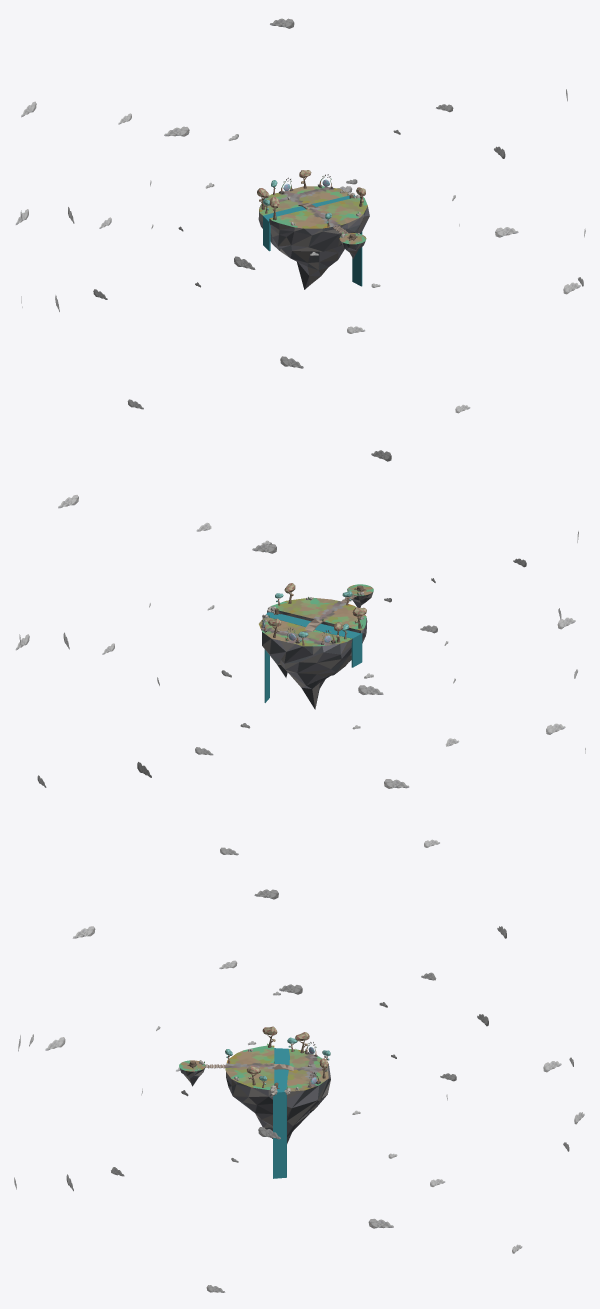
Rendered from IslaBosque.fbx.
3 renders of one model, top to bottom at view 1: azimuth 30°, elevation 25°; view 2: azimuth 150°, elevation 25°; view 3: azimuth 270°, elevation 25°, orthographic.
Visible parts, largest first — view 1: islaGrande_Rocas, islaGrande_Suelo, IslaBosque_Rio; view 2: islaGrande_Rocas, islaGrande_Suelo, IslaBosque_Rio; view 3: islaGrande_Suelo, islaGrande_Rocas, IslaBosque_Rio.
Part boxes in pixels (x1,y1,x2,y2): islaGrande_Rocas: (258, 205, 369, 289); islaGrande_Suelo: (259, 186, 367, 228); IslaBosque_Rio: (263, 195, 362, 286); islaGrande_Rocas: (262, 610, 367, 709); islaGrande_Suelo: (259, 597, 366, 646); IslaBosque_Rio: (264, 612, 362, 702); islaGrande_Suelo: (225, 1045, 328, 1091); islaGrande_Rocas: (226, 1064, 330, 1143); IslaBosque_Rio: (273, 1048, 289, 1178).
Size of the model in its own units: 1218 by 401 by 1200.
12 materials, 10 textured.
